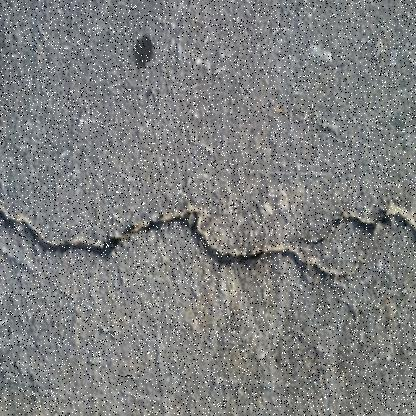Cracks: (0, 185, 415, 296)
